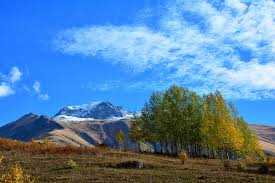field: (6, 136, 271, 179)
mountain: (12, 103, 154, 154)
sky: (3, 3, 269, 100)
tree: (140, 81, 257, 162)
